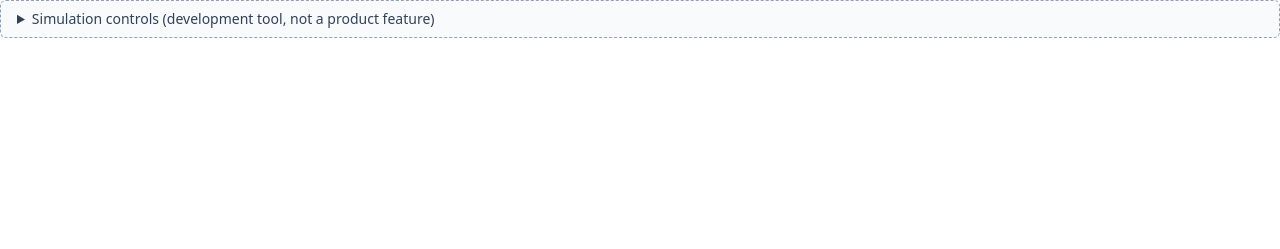
Test: SimulatorPanel › is a collapsed <details> with the dev-tool label
Click the heading "Simulation controls (development tool, not a product feature)" at (233, 18), box [32,9,434,28]
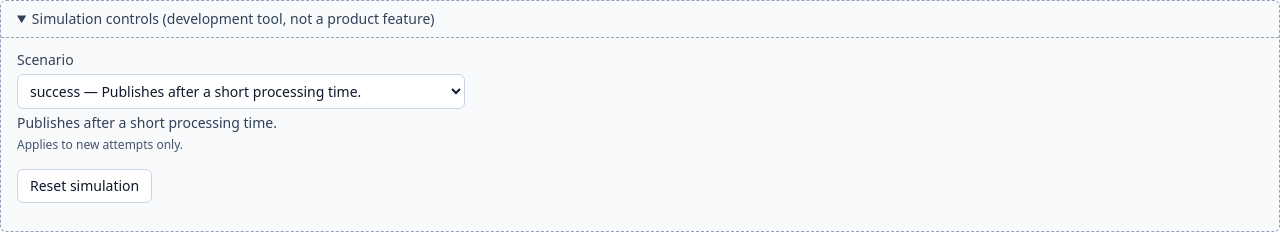
Expected: the text "Simulation controls (development tool, not a product feature)" has attribute open
